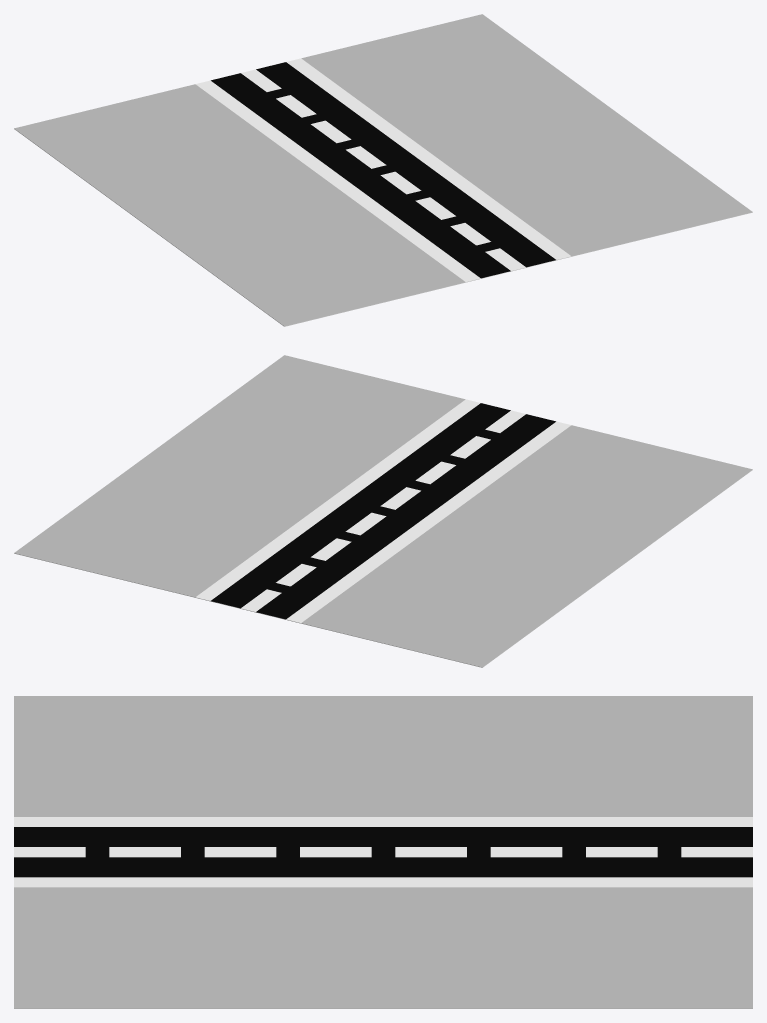
3 views of the same model, one above another, from view 1: azimuth 30°, elevation 25°; view 2: azimuth 150°, elevation 25°; view 3: azimuth 270°, elevation 25° (orthographic). The views are drawn at different scales.
Parts seen in each view (by area): view 1: 大地; view 2: 大地; view 3: 大地.
Boxes of the visible parts, x1,y1,x2,y2 form: 大地: [14, 14, 752, 326]; 大地: [14, 355, 752, 667]; 大地: [14, 696, 752, 1008].
Bounding box in the file's own units: 1000 × 1 × 1000.
Materials: 1 (1 with a texture image).
